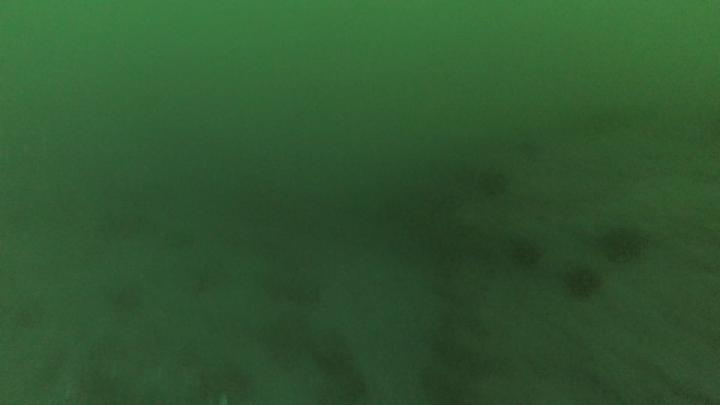echinus: (598, 222, 649, 264), (561, 262, 604, 300), (506, 232, 546, 269), (474, 165, 511, 199)
